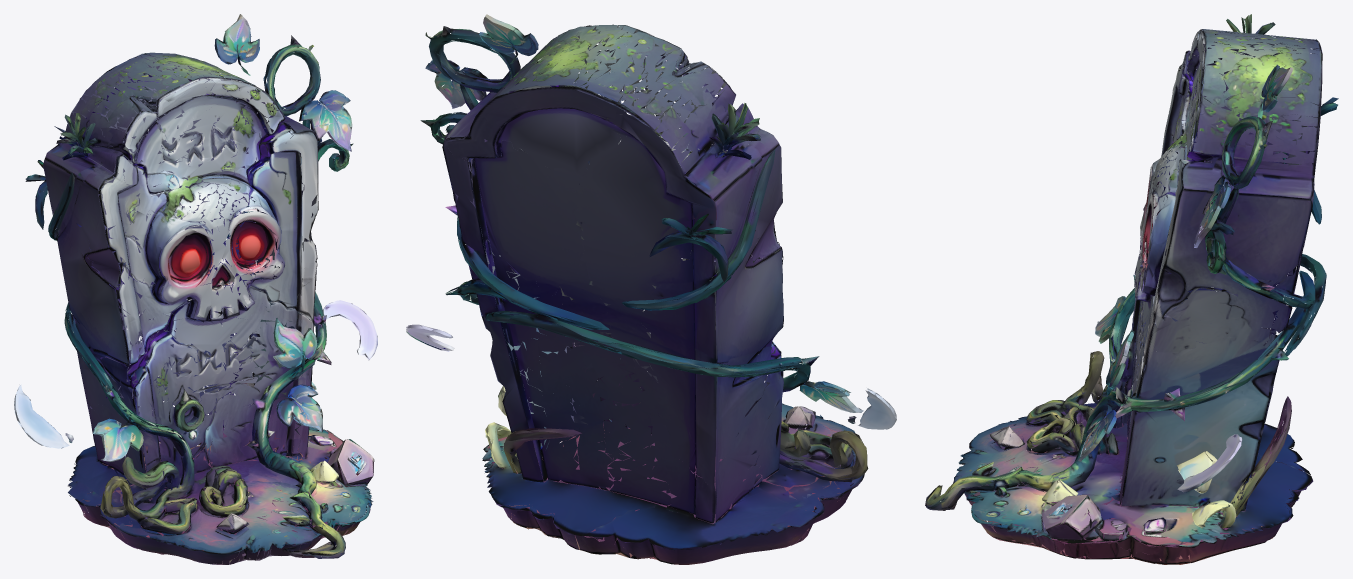
Rendered from ZombieTomb.fbx.
3 renders of one model, left to right at view 1: azimuth 30°, elevation 25°; view 2: azimuth 150°, elevation 25°; view 3: azimuth 270°, elevation 25°, orthographic. The views are drawn at different scales.
Visible parts, largest first — view 1: node_0; view 2: node_0; view 3: node_0.
Part boxes in pixels (bbox=[...]): node_0: bbox=[14, 14, 377, 564]; node_0: bbox=[406, 14, 896, 564]; node_0: bbox=[925, 14, 1338, 564].
Bounding box in the file's own units: 89.81 × 95.47 × 74.57.
Materials: 1 (1 with a texture image).
